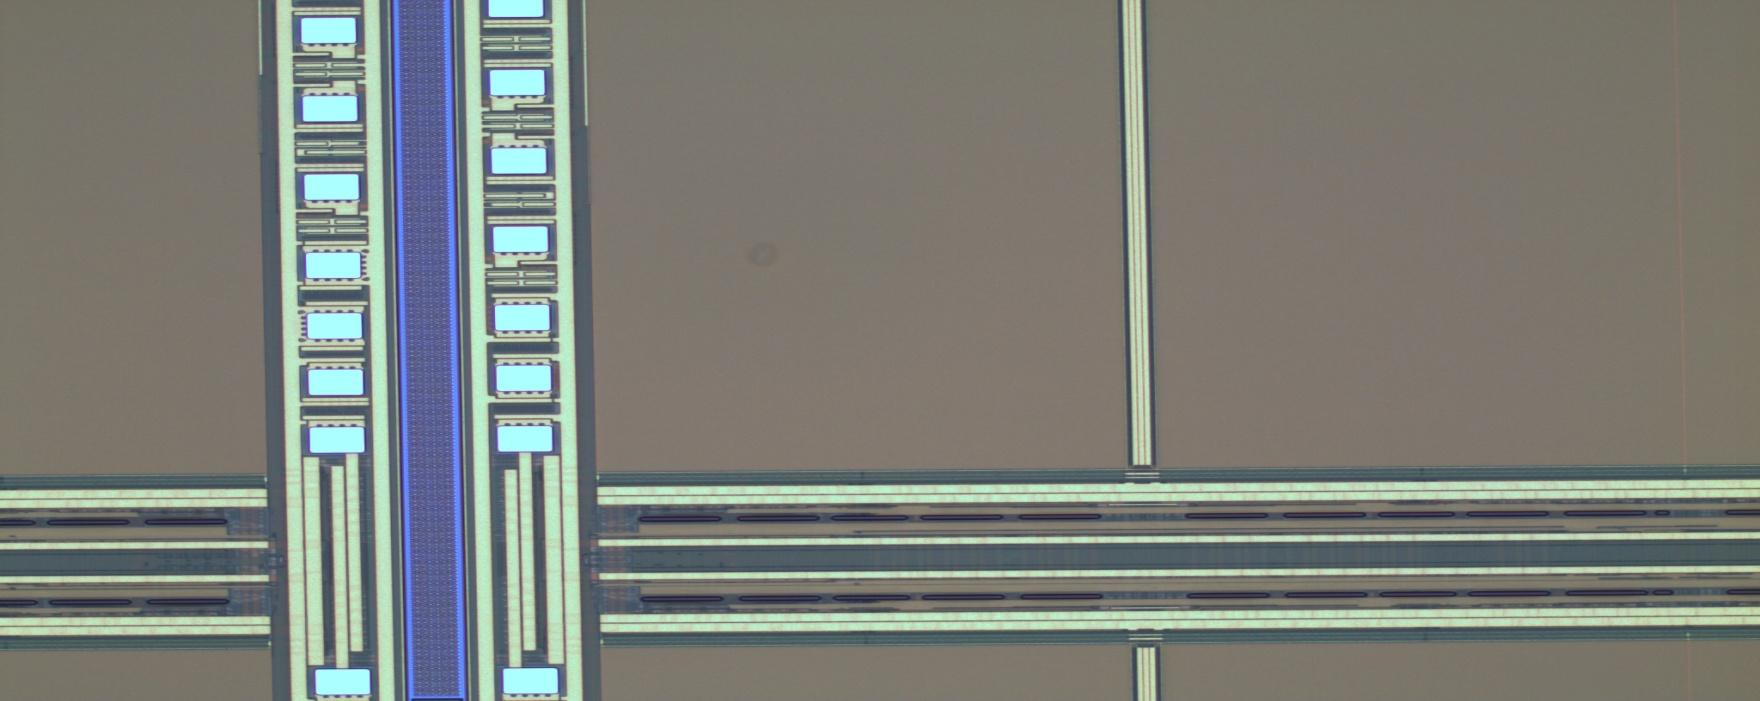PIQ PARTICLE: (736, 231, 788, 283)
